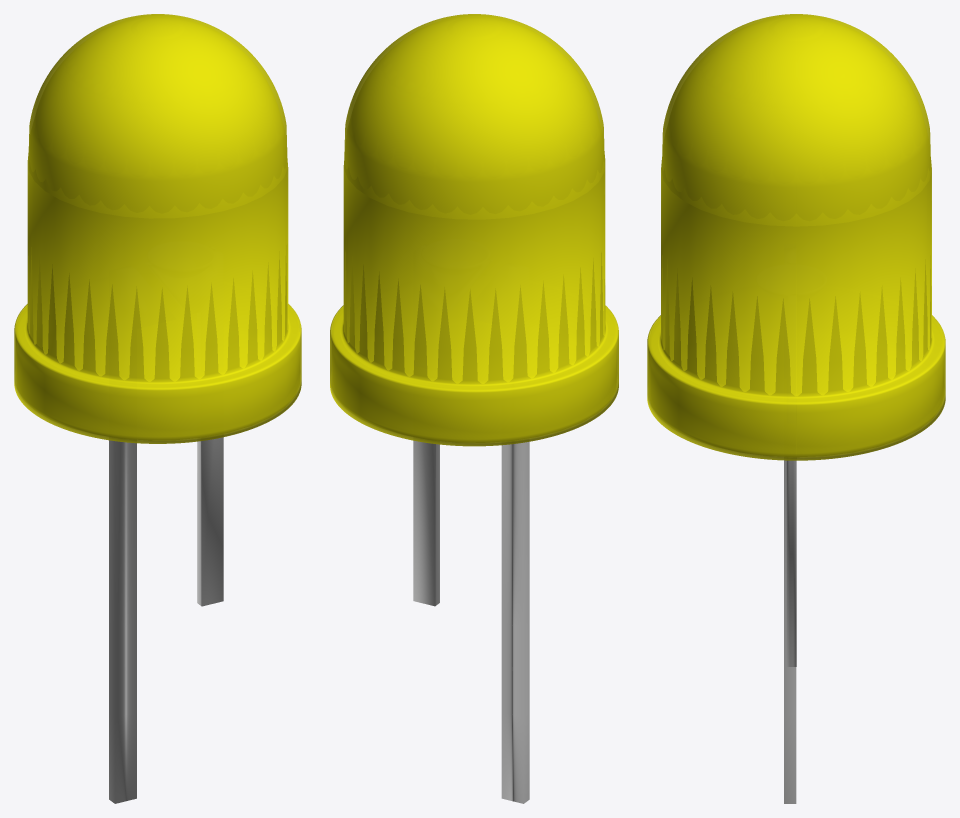
Rendered from LED.fbx.
The picture shows the model from 3 angles, left to right: view 1: azimuth 30°, elevation 25°; view 2: azimuth 150°, elevation 25°; view 3: azimuth 270°, elevation 25°; orthographic projection. The views are drawn at different scales.
Visible parts, largest first — view 1: Inner_Case, Outer_Case, Leg_Long, Leg_Short; view 2: Inner_Case, Outer_Case, Leg_Long, Leg_Short; view 3: Inner_Case, Outer_Case, Leg_Long, Leg_Short.
Part boxes in pixels (left/top/right/bottom): Inner_Case: left=14, top=14, right=301, bottom=443; Outer_Case: left=16, top=15, right=299, bottom=440; Leg_Long: left=109, top=440, right=136, bottom=803; Leg_Short: left=197, top=437, right=223, bottom=606; Inner_Case: left=330, top=14, right=618, bottom=446; Outer_Case: left=332, top=15, right=616, bottom=442; Leg_Long: left=501, top=441, right=529, bottom=803; Leg_Short: left=413, top=440, right=439, bottom=606; Inner_Case: left=647, top=14, right=945, bottom=460; Outer_Case: left=649, top=15, right=943, bottom=456; Leg_Long: left=784, top=460, right=796, bottom=803; Leg_Short: left=786, top=460, right=796, bottom=666.
Bounding box in the file's own units: 2.2 × 6.45 × 2.2.
